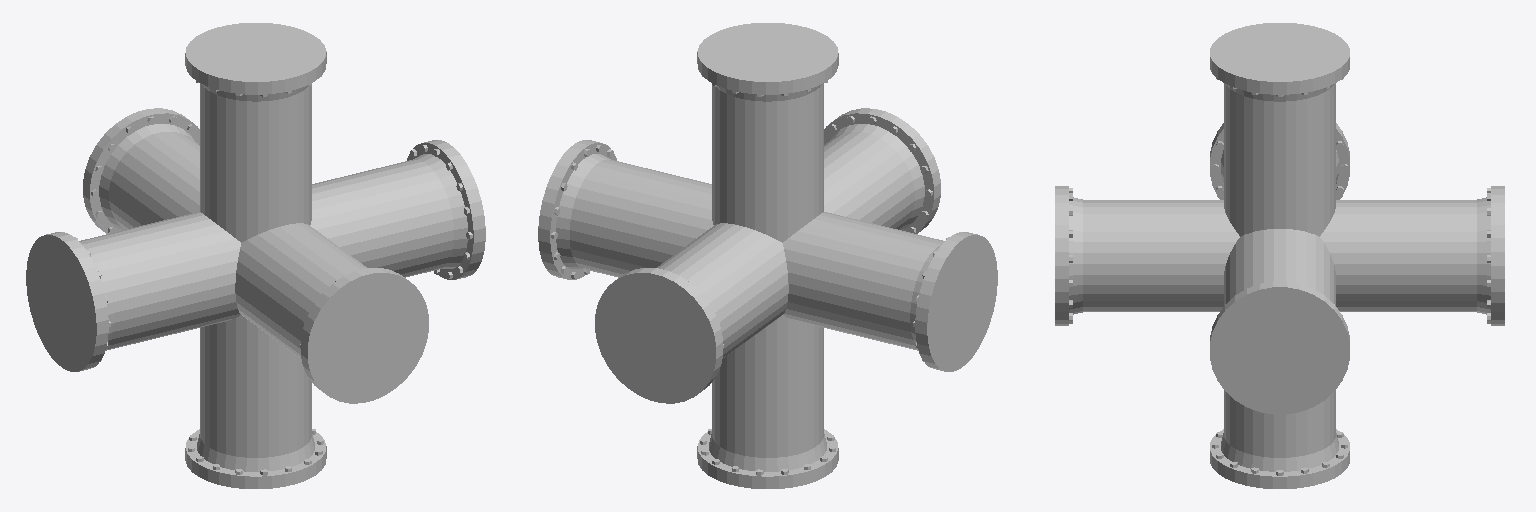
Rendered from pipeworks_pipe_10.obj.
The picture shows the model from 3 angles: view 1: azimuth 30°, elevation 25°; view 2: azimuth 150°, elevation 25°; view 3: azimuth 270°, elevation 25°; orthographic projection.
Visible parts, largest first — view 1: Pipe_Cylinder.002; view 2: Pipe_Cylinder.002; view 3: Pipe_Cylinder.002.
Boxes of the visible parts, <box> form: Pipe_Cylinder.002: <box>26,23,485,488</box>; Pipe_Cylinder.002: <box>538,23,997,488</box>; Pipe_Cylinder.002: <box>1055,23,1504,488</box>.
Bounding box in the file's own units: 1 × 1 × 1.